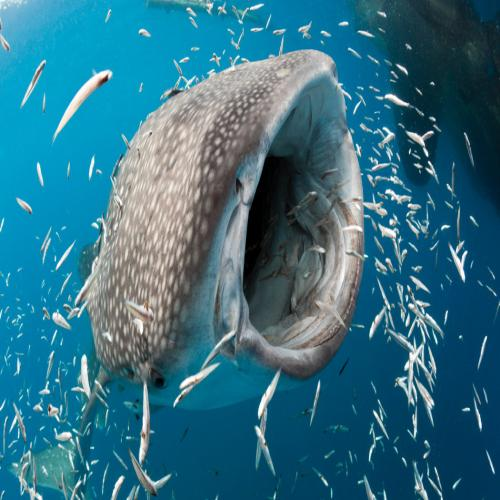shark-endangered: (86, 50, 366, 413)
